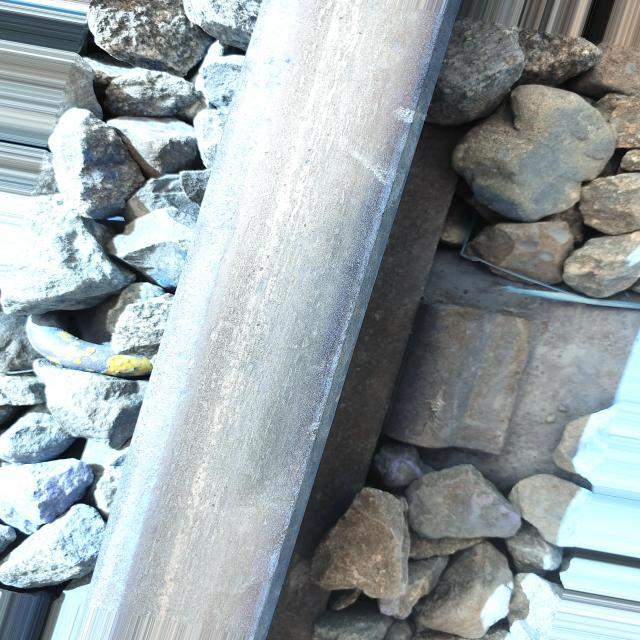Good Fasteners: (26, 314, 151, 377)
Missing Fastener: (393, 303, 533, 459)
